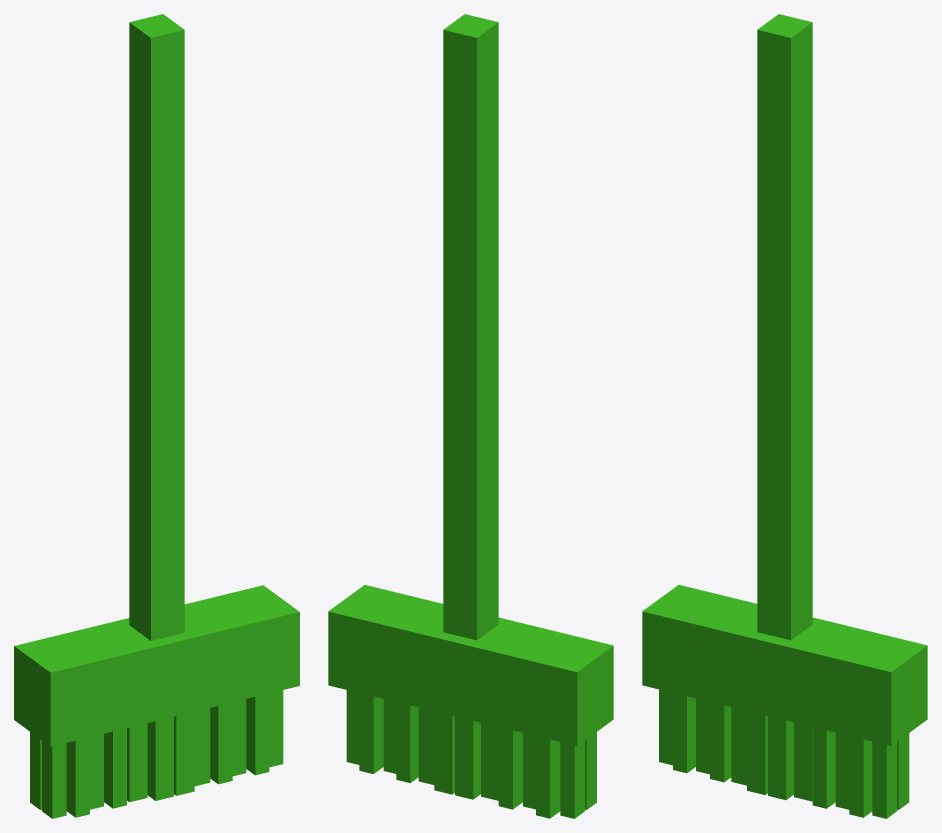
Rendered from sepru_v02.obj.
The picture shows the model from 3 angles, left to right: view 1: azimuth 30°, elevation 25°; view 2: azimuth 150°, elevation 25°; view 3: azimuth 330°, elevation 25°; orthographic projection.
Parts seen in each view (by area): view 1: sepru; view 2: sepru; view 3: sepru.
Part boxes in pixels (x1,y1,x2,y2): sepru: (14, 14, 299, 818); sepru: (328, 14, 613, 818); sepru: (642, 14, 927, 818).
Size of the model in its own units: 42.7 by 124 by 10.84.
